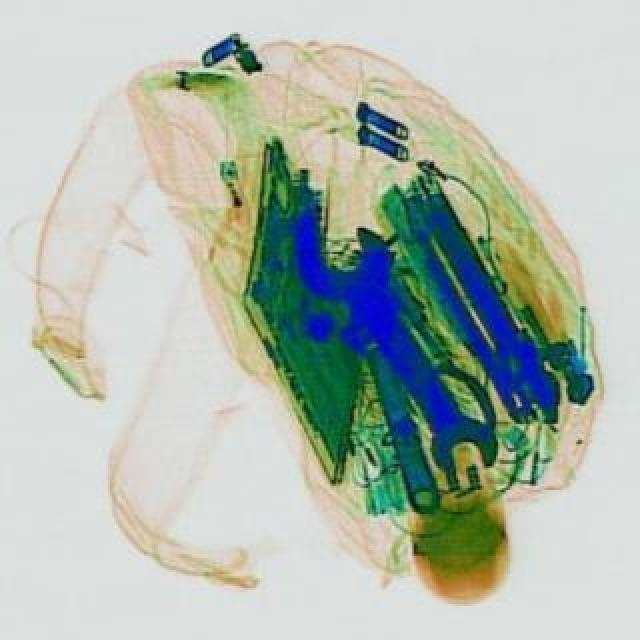scissors: (298, 214, 510, 486)
